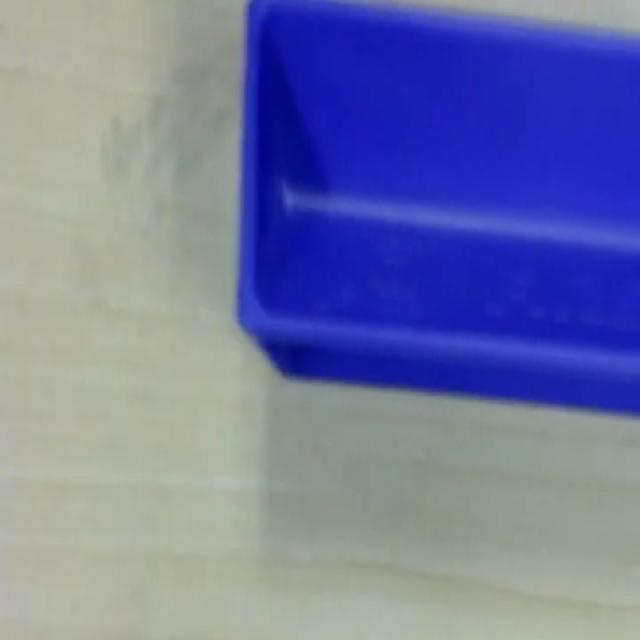blue_block: (235, 0, 639, 416)
